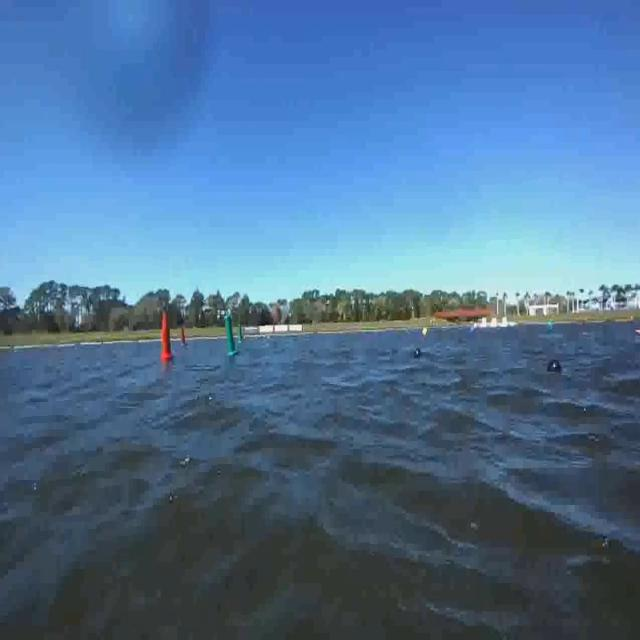black-buoy: (545, 354, 564, 376), (413, 346, 424, 358)
green-column-buoy: (223, 314, 238, 358)
red-column-buoy: (160, 310, 175, 360), (183, 328, 189, 348)
yellow-buoy: (422, 328, 429, 340)
